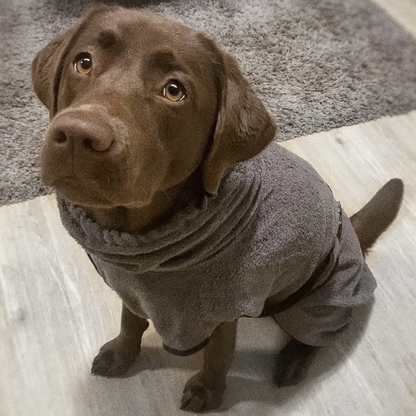labrado: (25, 4, 409, 416)
